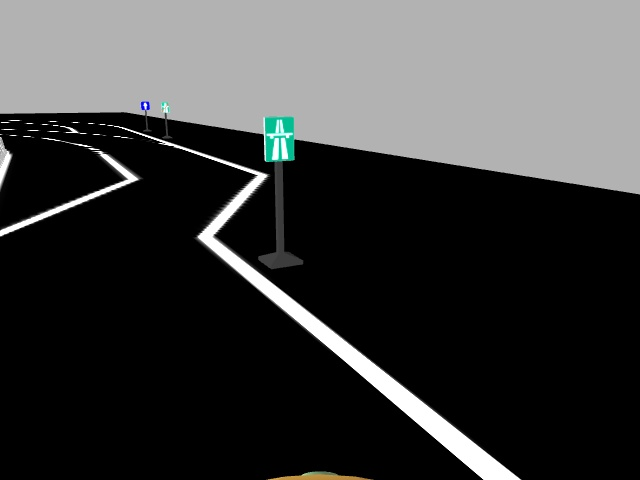HighwayEntrance: (262, 115, 294, 160)
